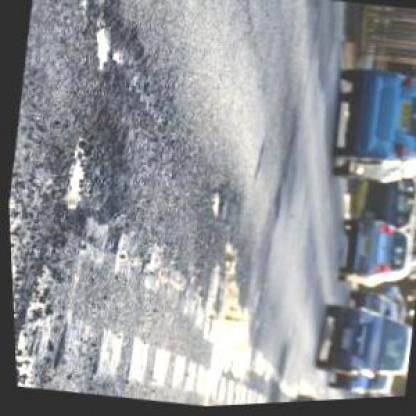pothole: (54, 119, 129, 229), (85, 0, 158, 89), (204, 191, 223, 222)
